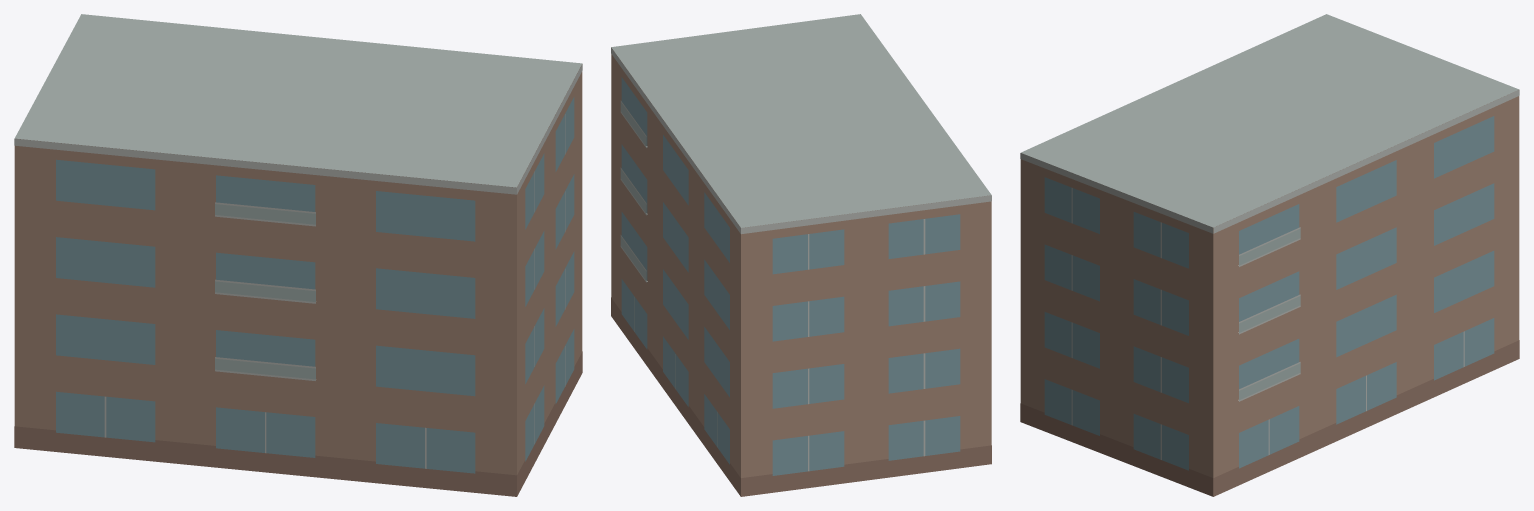
Rendered from survey-upis-32914268.glb.
3 views of the same model, side by side, from view 1: azimuth 30°, elevation 25°; view 2: azimuth 150°, elevation 25°; view 3: azimuth 270°, elevation 25° (orthographic). The views are drawn at different scales.
Visible parts, largest first — view 1: survey-upis-32914268.tmp; view 2: survey-upis-32914268.tmp; view 3: survey-upis-32914268.tmp.
Part boxes in pixels (x1,y1,x2,y2): survey-upis-32914268.tmp: [14, 14, 582, 496]; survey-upis-32914268.tmp: [611, 14, 991, 496]; survey-upis-32914268.tmp: [1020, 14, 1519, 496].
Size of the model in its own units: 17.87 by 10.5 by 17.64.
